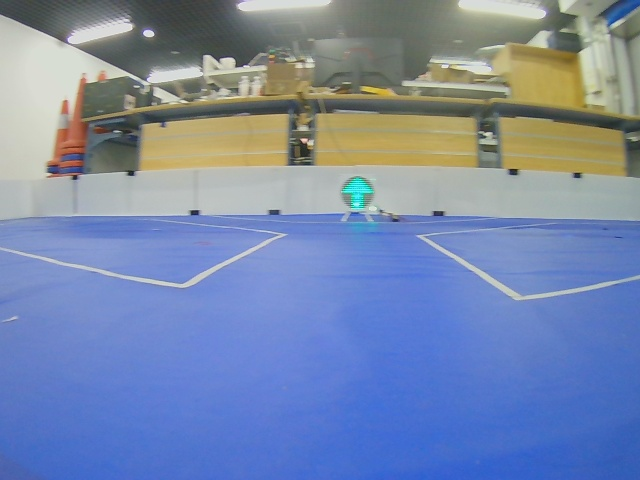straight_green: (341, 176, 375, 211)
